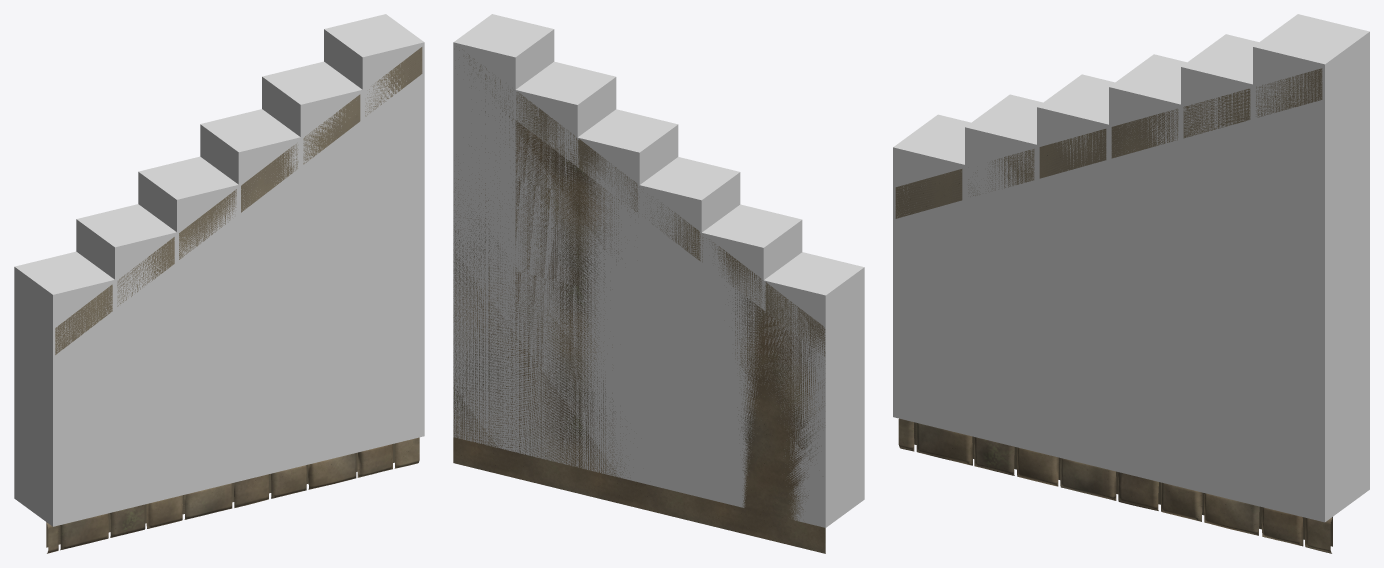
The model's file is retaining_wall_stair_side.gltf.
The picture shows the model from 3 angles, left to right: view 1: azimuth 30°, elevation 25°; view 2: azimuth 150°, elevation 25°; view 3: azimuth 330°, elevation 25°; orthographic projection. The views are drawn at different scales.
Parts seen in each view (by area): view 1: retaining_wall_stair_side_col, retaining_wall_stair_side_LOD0; view 2: retaining_wall_stair_side_col, retaining_wall_stair_side_LOD0; view 3: retaining_wall_stair_side_col, retaining_wall_stair_side_LOD0.
Boxes of the visible parts, x1,y1,x2,y2 form: retaining_wall_stair_side_col: (14, 14, 424, 526); retaining_wall_stair_side_LOD0: (46, 47, 422, 553); retaining_wall_stair_side_col: (453, 14, 864, 527); retaining_wall_stair_side_LOD0: (453, 49, 825, 553); retaining_wall_stair_side_col: (893, 14, 1369, 522); retaining_wall_stair_side_LOD0: (895, 68, 1332, 553).
Size of what is drawn, in the model's own units: 3 by 3.29 by 0.54.
3 materials, 3 textured.
